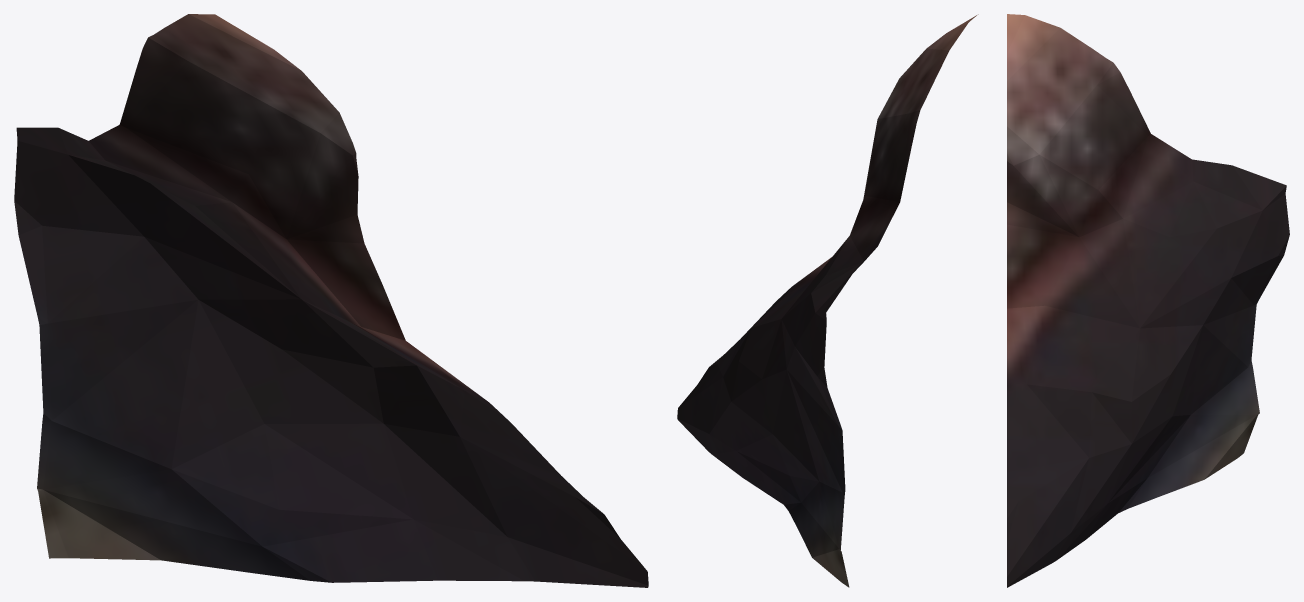
3 renders of one model, left to right at view 1: azimuth 30°, elevation 25°; view 2: azimuth 150°, elevation 25°; view 3: azimuth 270°, elevation 25°, orthographic. The views are drawn at different scales.
Bounding box in the file's own units: 0.1649 × 0.2505 × 0.1462.
1 material, 1 textured.
